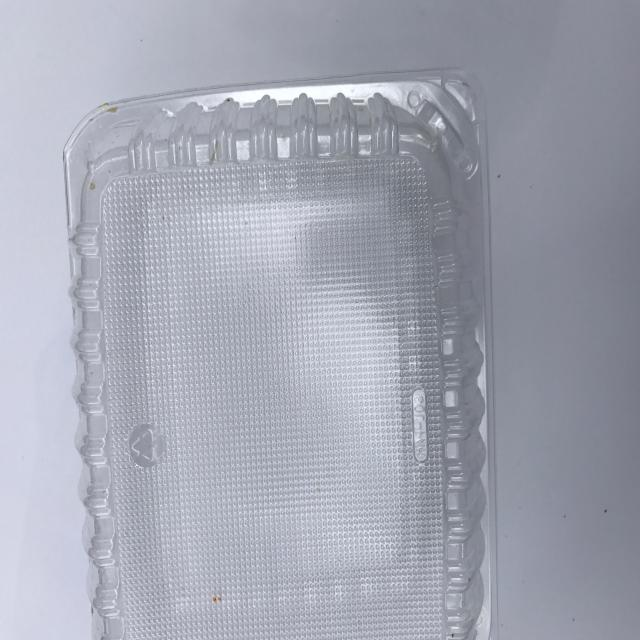plastic: (63, 69, 490, 640)
